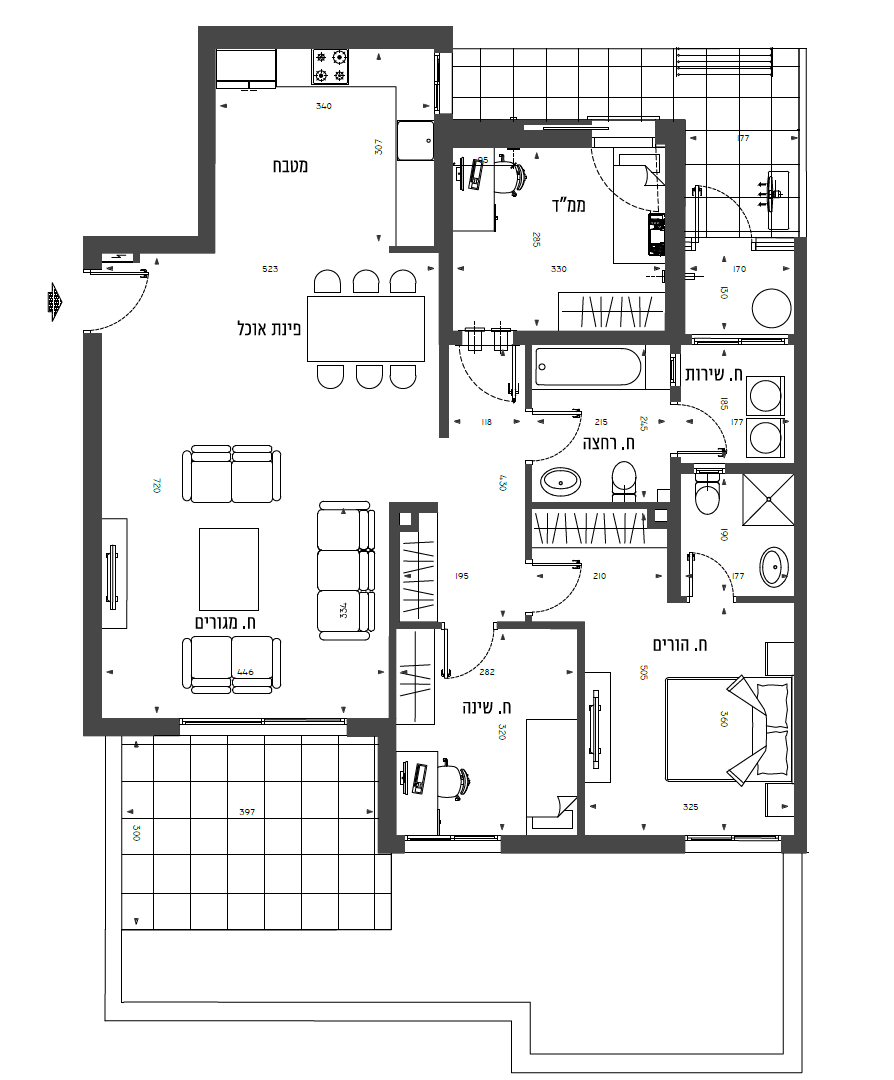door: (438, 630, 498, 692), (685, 396, 740, 461), (538, 403, 586, 467), (538, 553, 585, 612), (684, 541, 739, 587)
wall: (794, 239, 806, 847), (86, 332, 101, 730), (197, 27, 450, 47), (200, 59, 217, 255), (441, 117, 450, 430), (500, 838, 685, 850), (379, 718, 394, 846)
window: (264, 717, 345, 724), (177, 718, 263, 724)
